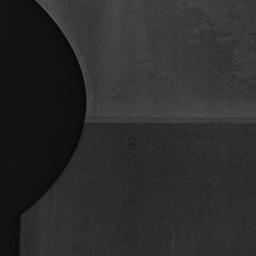Crescent gap: (23, 0, 86, 214)
